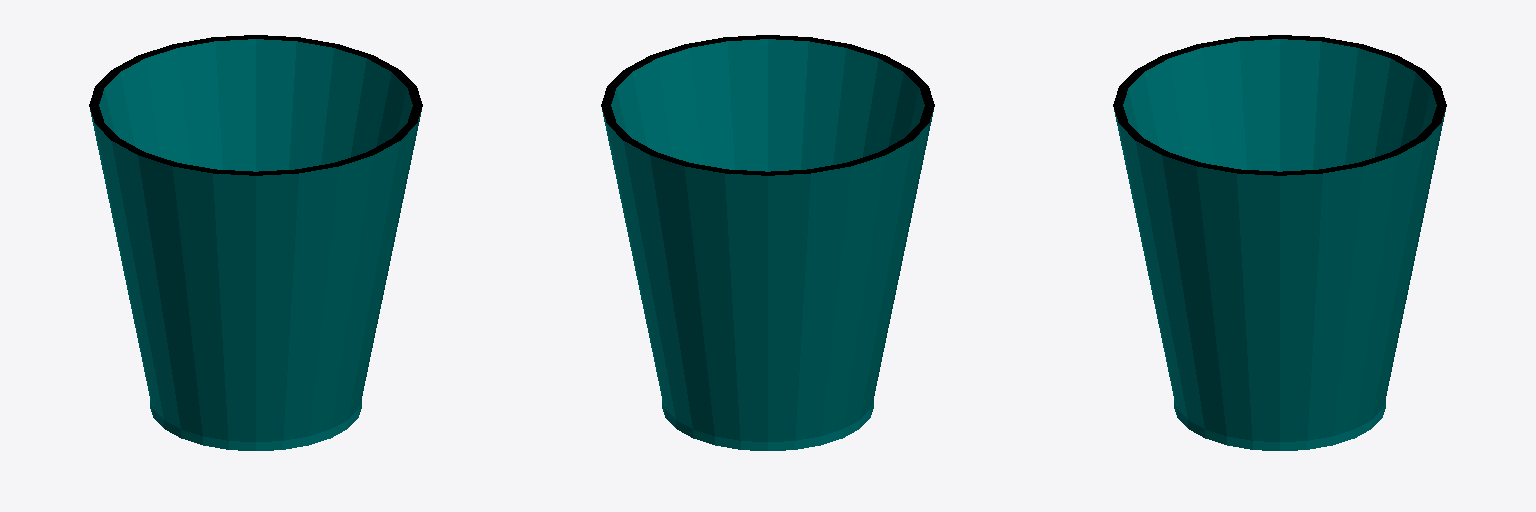
The model's file is trashPapel.obj.
3 renders of one model, left to right at view 1: azimuth 30°, elevation 25°; view 2: azimuth 150°, elevation 25°; view 3: azimuth 270°, elevation 25°, orthographic.
Parts seen in each view (by area): view 1: Mesh1 Model; view 2: Mesh1 Model; view 3: Mesh1 Model.
Boxes of the visible parts, box(x1,y1,x2,y2) form: Mesh1 Model: box(89, 35, 422, 450); Mesh1 Model: box(601, 35, 934, 450); Mesh1 Model: box(1113, 35, 1446, 450).
Size of the model in its own units: 1 by 0.996 by 1.